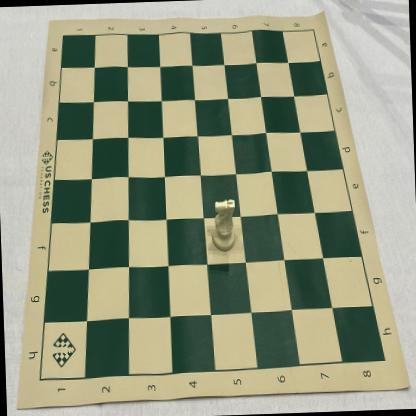knight: (211, 199, 237, 253)
